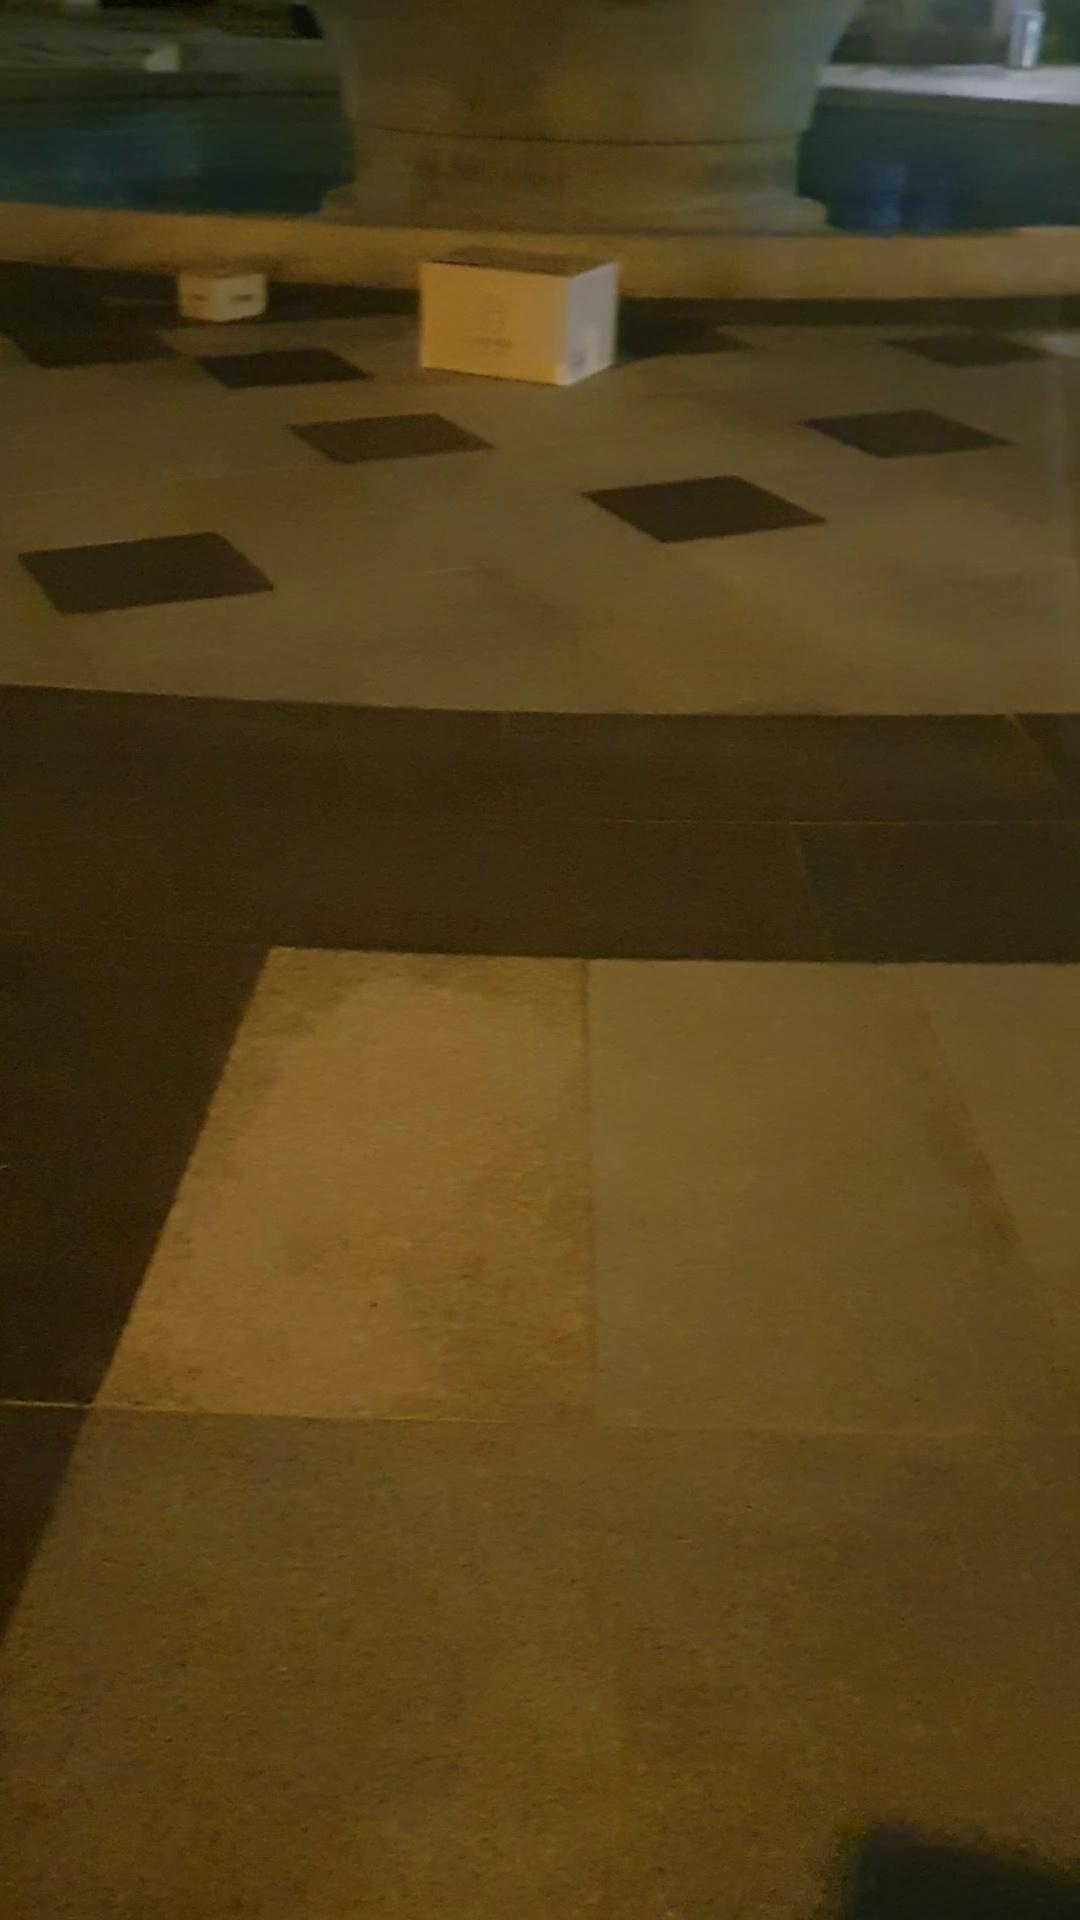Box: (411, 240, 618, 389), (167, 255, 277, 324)
